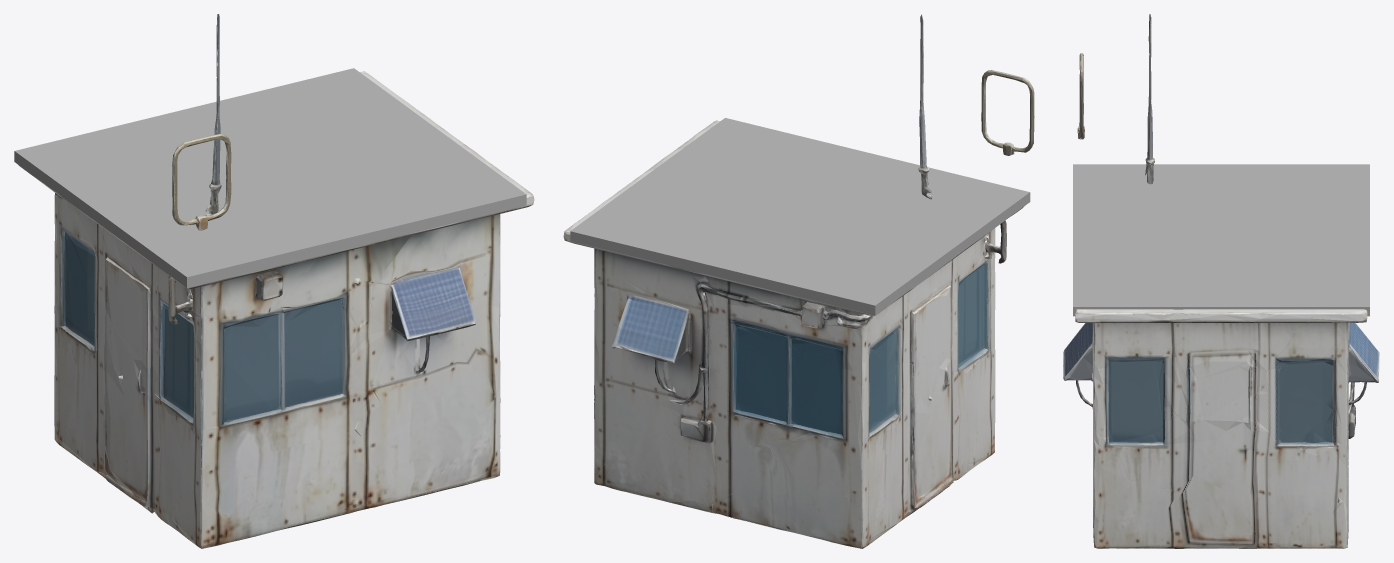
The model's file is station.glb.
3 views of the same model, side by side, from view 1: azimuth 30°, elevation 25°; view 2: azimuth 150°, elevation 25°; view 3: azimuth 270°, elevation 25° (orthographic). The views are drawn at different scales.
Parts seen in each view (by area): view 1: Lux3D station; view 2: Lux3D station; view 3: Lux3D station.
Part boxes in pixels (<box>): Lux3D station: <box>14,14,534,548</box>; Lux3D station: <box>563,14,1034,548</box>; Lux3D station: <box>1063,14,1379,548</box>.
Size of the model in its own units: 0.75 by 1 by 0.6666.
Materials: 1 (1 with a texture image).
